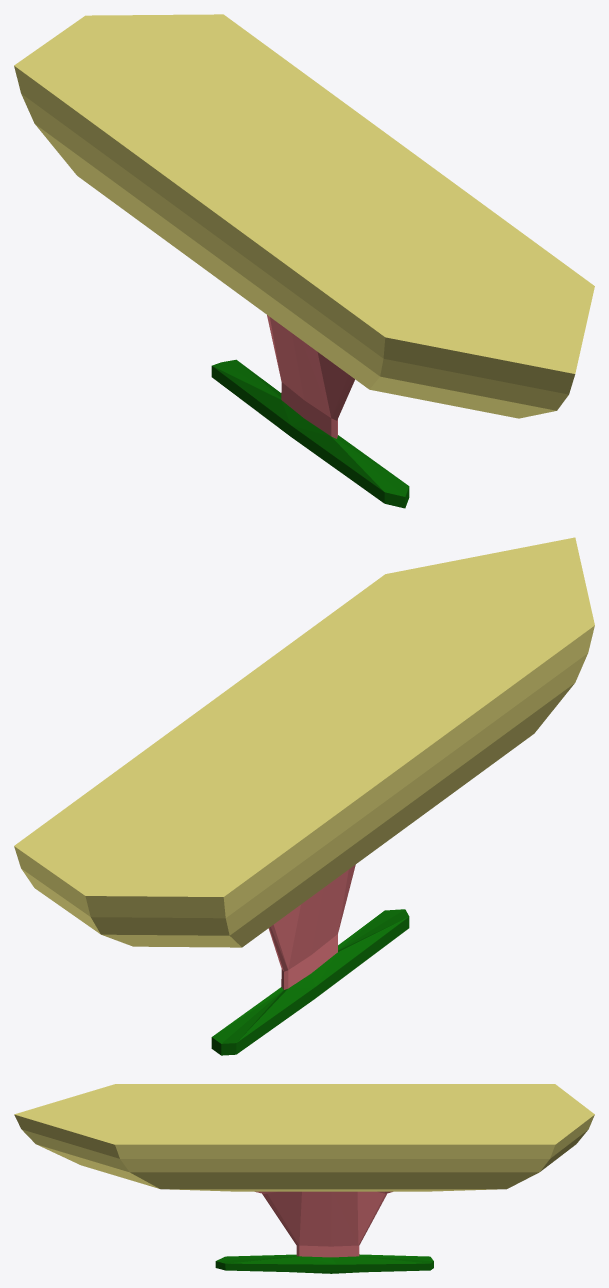
The model's file is barchetta_semplice_triangle.fbx.
3 renders of one model, top to bottom at view 1: azimuth 30°, elevation 25°; view 2: azimuth 150°, elevation 25°; view 3: azimuth 270°, elevation 25°, orthographic. The views are drawn at different scales.
Visible parts, largest first — view 1: barca; view 2: barca; view 3: barca.
Boxes of the visible parts, left/top/right/bottom form: barca: left=14, top=14, right=594, bottom=508; barca: left=14, top=537, right=594, bottom=1055; barca: left=14, top=1084, right=594, bottom=1273.
Size of the model in its own units: 780 by 956 by 3156.
